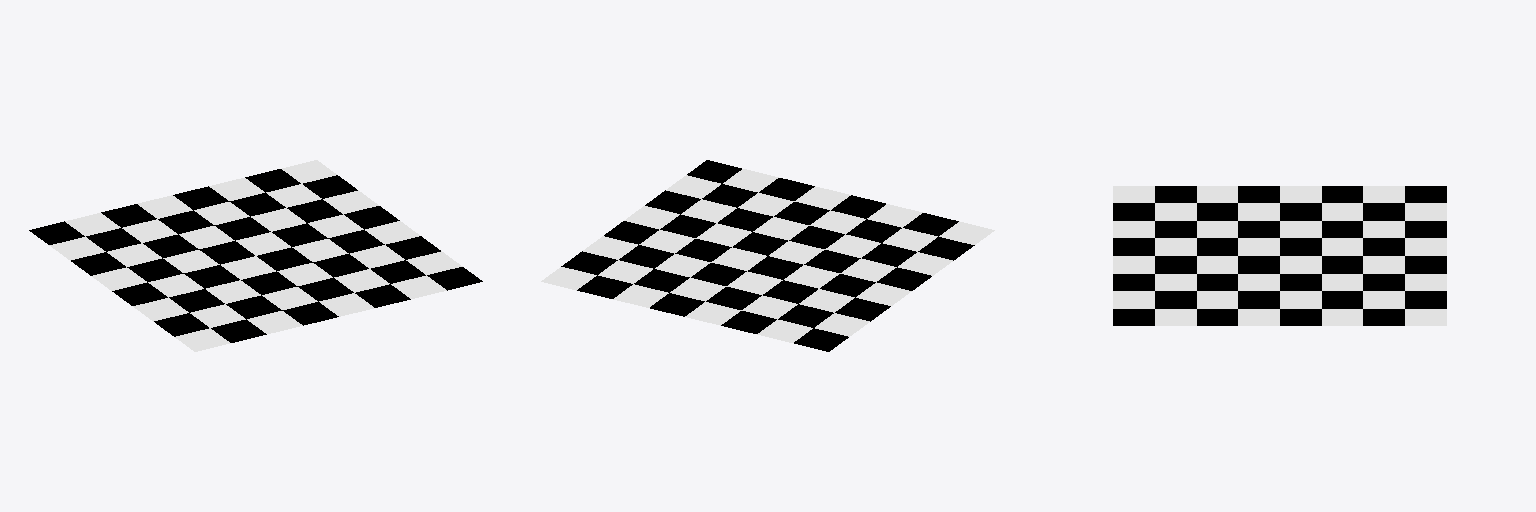
3 views of the same model, side by side, from view 1: azimuth 30°, elevation 25°; view 2: azimuth 150°, elevation 25°; view 3: azimuth 270°, elevation 25° (orthographic).
Parts seen in each view (by area): view 1: plane; view 2: plane; view 3: plane.
Part boxes in pixels (x1,y1,x2,y2): plane: (29, 160, 482, 351); plane: (541, 160, 994, 351); plane: (1113, 186, 1446, 325).
Size of the model in its own units: 6.25 by 0 by 6.25.
1 materials, 1 textured.